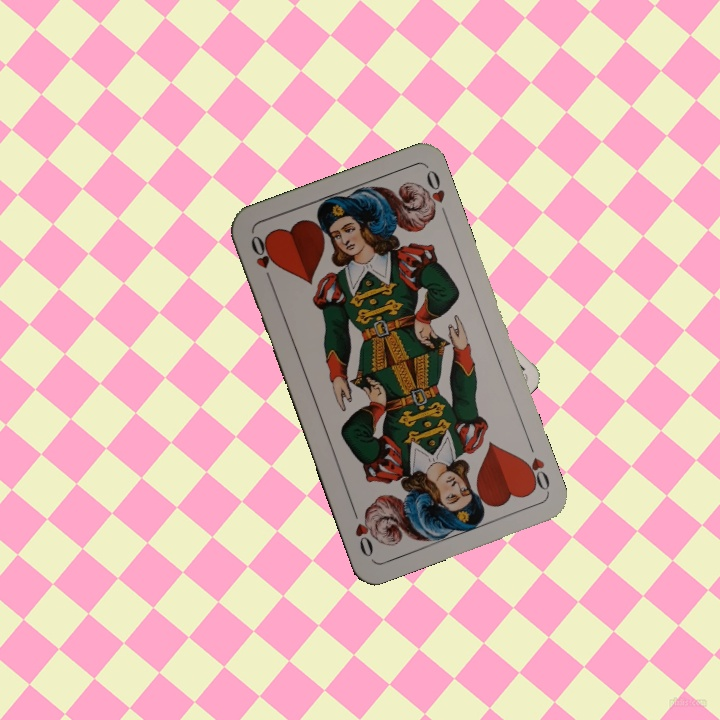HO: (517, 438, 553, 495), (246, 231, 277, 287)
